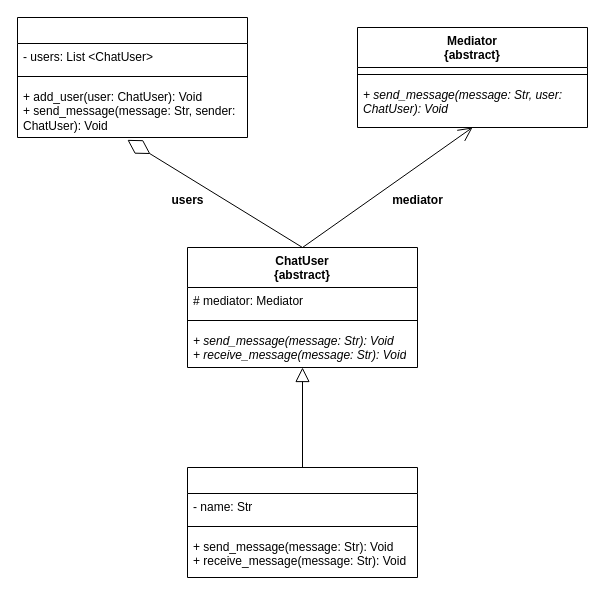
Image size: 605x598. Some labels were removed from this diagram. The box of each missing label's shape, as (x1, y1, x2, y2) in pixels:
ChatMediator: (16, 16, 248, 138)
ConcreteUser: (186, 466, 418, 578)
